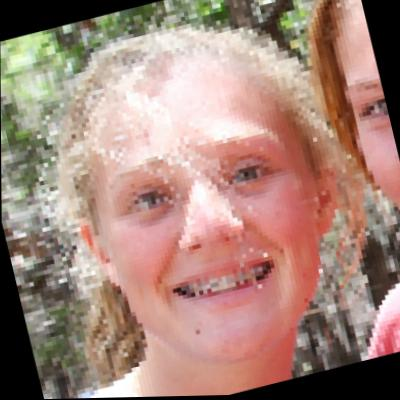happy: (33, 26, 376, 387)
